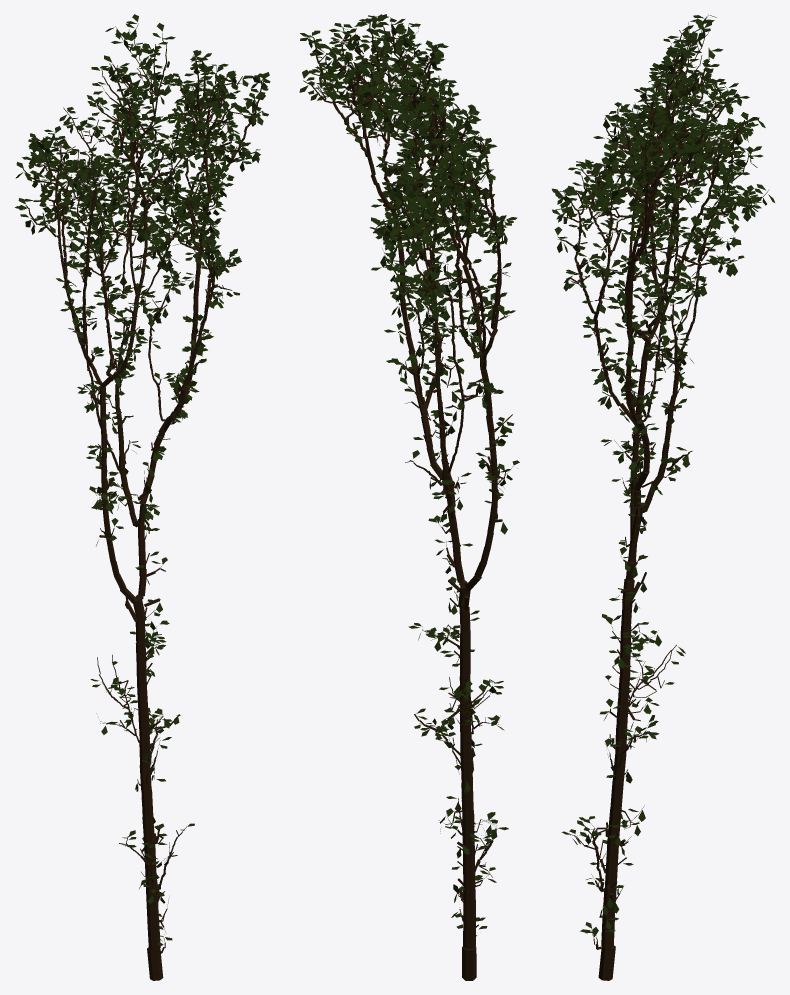
The model's file is tree_143.obj.
3 renders of one model, left to right at view 1: azimuth 30°, elevation 25°; view 2: azimuth 150°, elevation 25°; view 3: azimuth 270°, elevation 25°, orthographic. The views are drawn at different scales.
Visible parts, largest first — view 1: Leaves, TrunkAndBranches; view 2: Leaves, TrunkAndBranches; view 3: Leaves, TrunkAndBranches.
Boxes of the visible parts, bbox=[...] form: Leaves: bbox=[15, 14, 270, 945]; TrunkAndBranches: bbox=[23, 23, 264, 980]; Leaves: bbox=[299, 14, 519, 929]; TrunkAndBranches: bbox=[303, 15, 513, 980]; Leaves: bbox=[552, 15, 774, 937]; TrunkAndBranches: bbox=[558, 14, 768, 980].
Bounding box in the file's own units: 6.32 × 24.65 × 5.14.
